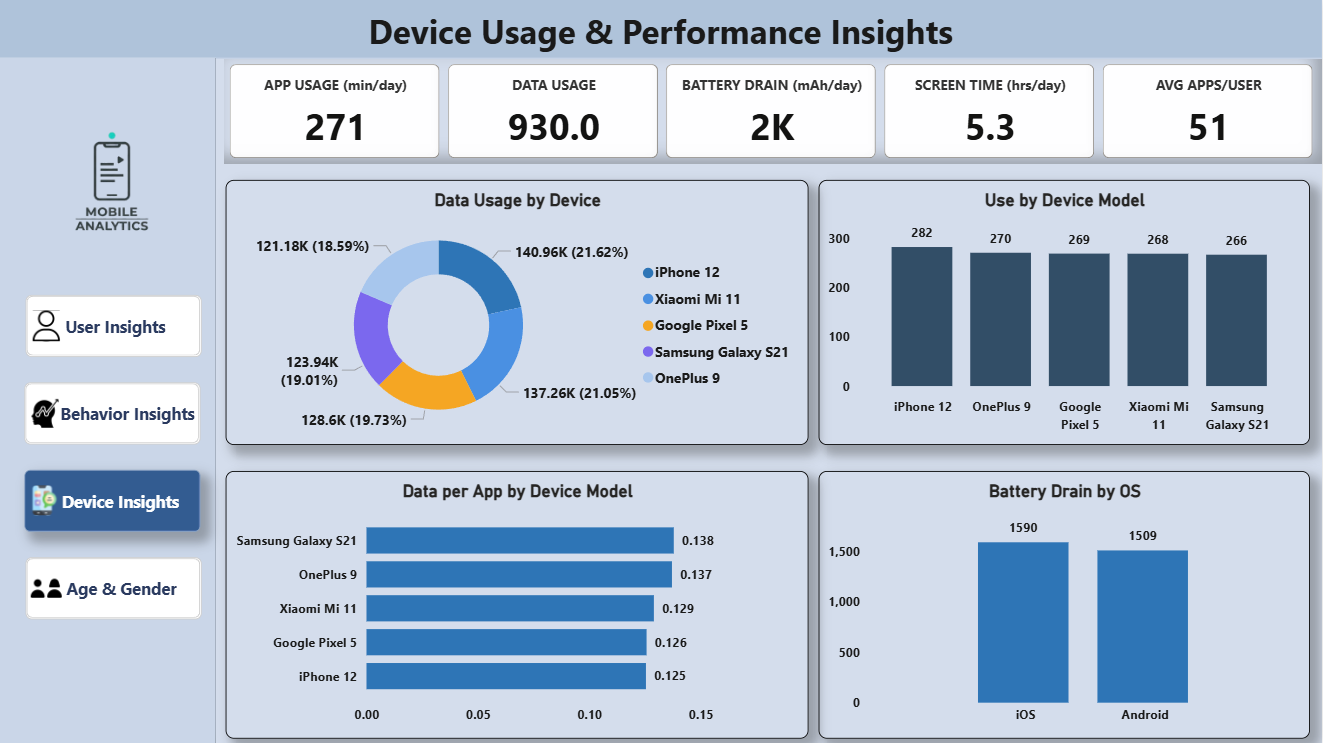

Layout of this report page (visuals, bound fields, positions):
{"tool":"powerbi","page":{"name":"Device Insights","canvas":[1280,720],"ordinal":2},"visuals":[{"type":"shape","box":[0,0,1280.5,58],"z":0},{"type":"shape","box":[0,57.1,210,662.9],"z":1000},{"type":"actionButton","box":[27.1,285.7,170,60],"z":2000},{"type":"actionButton","box":[25.7,370.5,170,60],"z":3000},{"type":"actionButton","box":[25.7,455.2,170,60],"z":4000},{"type":"actionButton","box":[27.1,540,170,60],"z":5000},{"type":"clusteredBarChart","title":"Data per App by Device Model","fields":{"Category":["Dim_Devices.Device Model"],"Y":["Calculate.Data per App (Device)"]},"box":[219.9,455.9,563.2,258.8],"z":6000},{"type":"image","box":[0,65.7,220,220],"z":7000},{"type":"donutChart","title":"Data Usage by Device","fields":{"Category":["Dim_Devices.Device Model"],"Y":["Calculate.Total Data by Device"]},"box":[219.9,174.3,563.2,256.1],"z":8000},{"type":"clusteredColumnChart","title":" Use by Device Model","fields":{"Category":["Dim_Devices.Device Model"],"Y":["Calculate.Average Use"]},"box":[793.8,174.3,474.7,256.1],"z":9000},{"type":"cardVisual","title":"APP USAGE","fields":{"Data":["Calculate.AvgUse","Calculate.AvgData","Calculate.AvgBatt","Calculate.AvgScreen","Calculate.AvgAppsUser"]},"box":[219.4,57.7,1060.6,101.9],"z":10000},{"type":"clusteredColumnChart","title":"Battery Drain by OS ","fields":{"Category":["Dim_Devices.Operating System"],"Y":["Calculate.Avg Battery by OS"]},"box":[793.8,455.9,474.7,258.8],"z":11000}]}

Visuals, with their boxes in screenshot pixels (x1, y1, x2, y2), scaled from the page's 1280x720 canvas onto the 1323x743 screenshot:
shape: (left=0, top=0, right=1322, bottom=60)
shape: (left=0, top=59, right=217, bottom=742)
actionButton: (left=28, top=295, right=204, bottom=357)
actionButton: (left=27, top=382, right=202, bottom=444)
actionButton: (left=27, top=470, right=202, bottom=532)
actionButton: (left=28, top=557, right=204, bottom=619)
"Data per App by Device Model" clusteredBarChart: (left=227, top=470, right=809, bottom=738)
image: (left=0, top=68, right=227, bottom=295)
"Data Usage by Device" donutChart: (left=227, top=180, right=809, bottom=444)
" Use by Device Model" clusteredColumnChart: (left=820, top=180, right=1311, bottom=444)
"APP USAGE" cardVisual: (left=227, top=60, right=1322, bottom=165)
"Battery Drain by OS " clusteredColumnChart: (left=820, top=470, right=1311, bottom=738)
